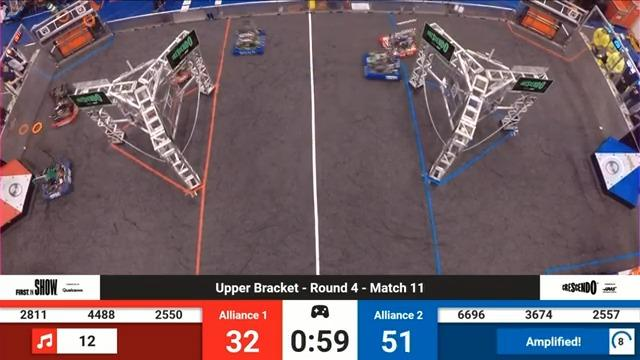robot: (36, 159, 76, 202), (45, 84, 79, 130), (361, 51, 403, 84), (376, 29, 417, 58), (230, 26, 268, 57), (175, 69, 192, 83)
